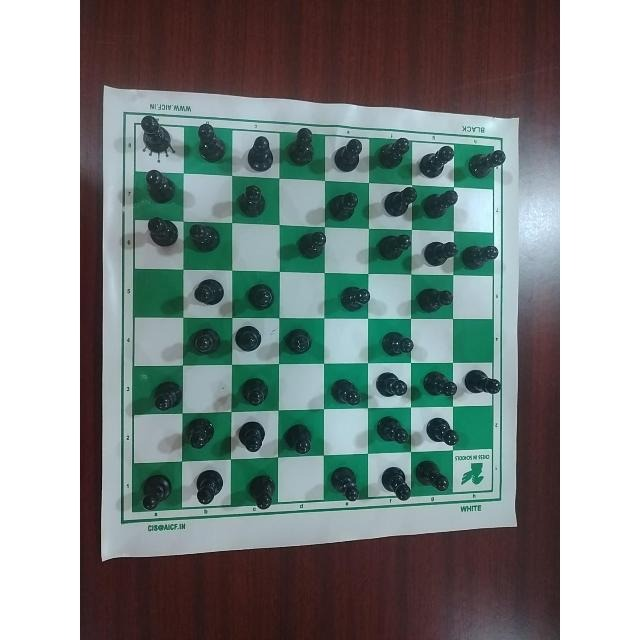black-pawn: (188, 116, 227, 168), (136, 112, 175, 160), (136, 167, 176, 208), (416, 138, 455, 180), (285, 124, 319, 172), (283, 417, 321, 459), (378, 463, 412, 509), (328, 466, 367, 506), (466, 145, 506, 183), (372, 411, 412, 449), (139, 213, 179, 250), (376, 132, 412, 173), (329, 132, 363, 175), (139, 470, 173, 513), (421, 415, 463, 449), (234, 181, 270, 220), (327, 373, 366, 409), (184, 325, 224, 360), (282, 321, 317, 361), (415, 284, 457, 317), (461, 365, 503, 398), (418, 234, 457, 269), (185, 219, 221, 256), (188, 274, 225, 310), (421, 188, 459, 223), (461, 237, 499, 272), (374, 229, 413, 263), (241, 471, 275, 510), (241, 132, 274, 172), (145, 379, 185, 412), (190, 468, 222, 509), (380, 185, 416, 221), (336, 280, 372, 316), (242, 280, 276, 318), (326, 187, 359, 226), (183, 415, 217, 452), (415, 457, 449, 493), (372, 369, 410, 401), (234, 419, 266, 457), (376, 327, 416, 357), (420, 370, 456, 403), (235, 376, 272, 408), (233, 323, 265, 359), (293, 230, 328, 258)
